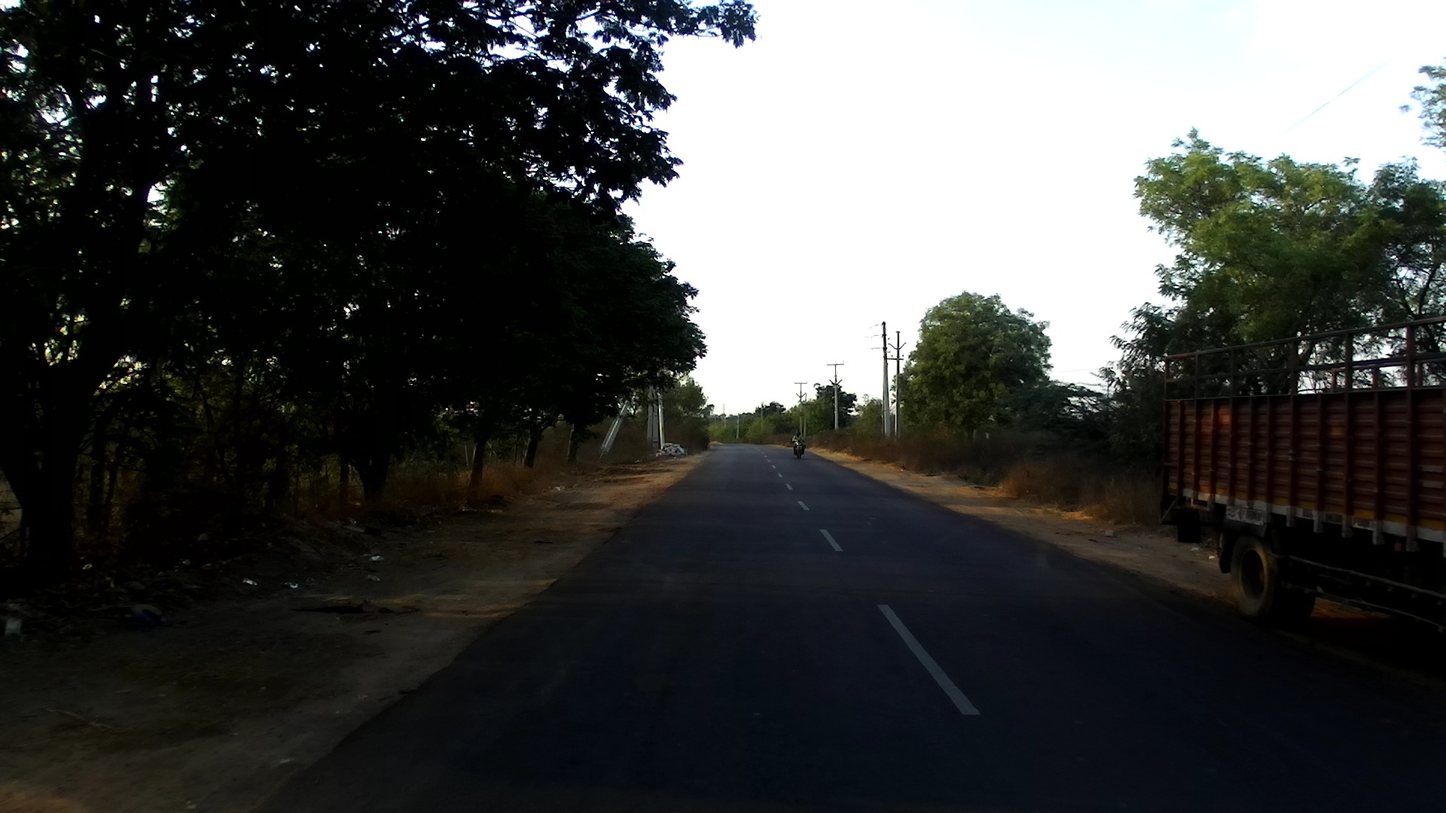motorcycle: (791, 437, 808, 461)
rider: (791, 426, 808, 455)
truck: (1159, 315, 1445, 630)
